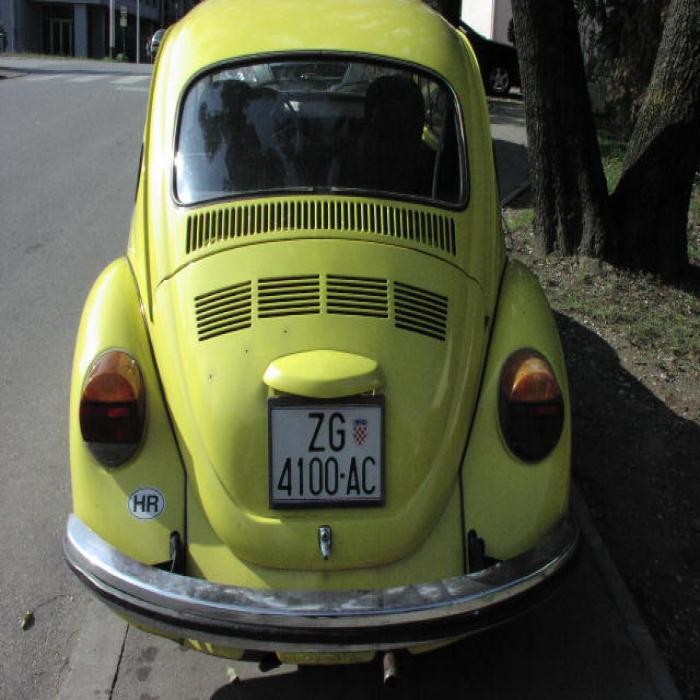number_plate: (271, 406, 380, 498)
